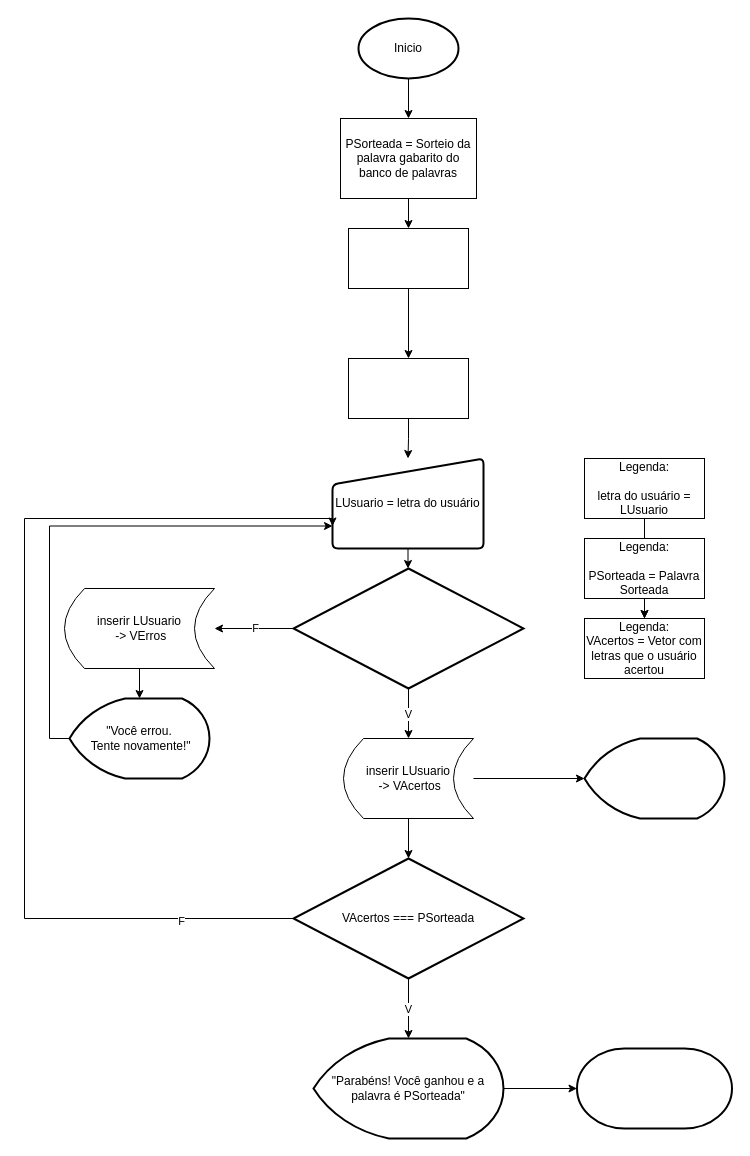
The diagram is 750 pixels wide and 1156 high, and some of its shapes have lost their labels. Each missing label, with the centre of its shape:
"Acertou! VAcertos: LUsuario": (x=654, y=778)
Criação do vetor VAcertos: (x=408, y=258)
Criação do vetor VErros: (x=408, y=388)
LUsuario === PSorteada: (x=408, y=628)
Término: (x=654, y=1088)
